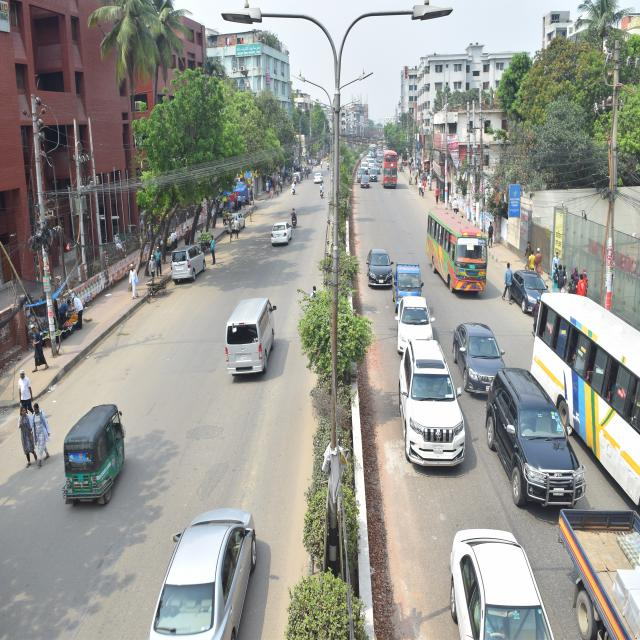bus: (534, 275, 640, 436), (422, 202, 494, 296), (378, 142, 403, 199)
car: (151, 489, 259, 640), (483, 361, 588, 510), (396, 340, 474, 476), (445, 527, 536, 640), (455, 319, 506, 393), (367, 238, 394, 296), (266, 216, 295, 253), (359, 173, 373, 190), (311, 166, 326, 180), (363, 160, 371, 176)
microbus: (227, 287, 278, 391), (166, 248, 213, 278)
pickup-van: (388, 254, 428, 309)
